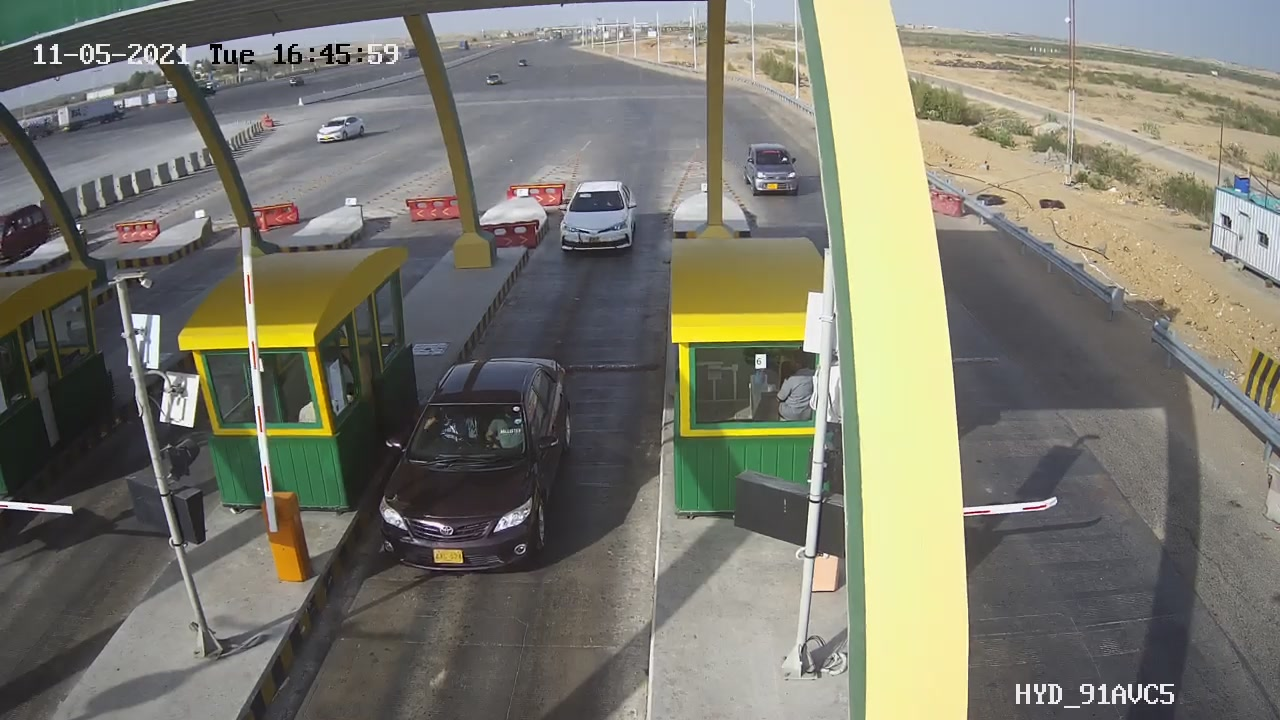F1: (354, 337, 597, 592), (546, 167, 653, 271)
